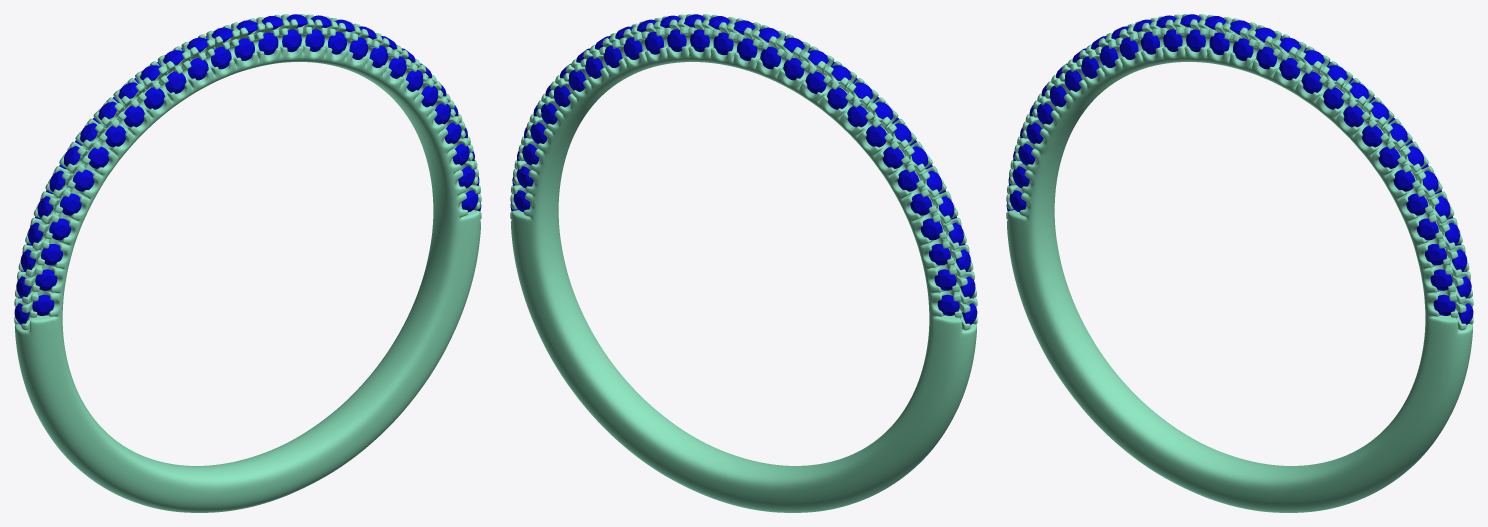
3 renders of one model, left to right at view 1: azimuth 30°, elevation 25°; view 2: azimuth 150°, elevation 25°; view 3: azimuth 330°, elevation 25°, orthographic.
Visible parts, largest first — view 1: Metal03; view 2: Metal03; view 3: Metal03.
Boxes of the visible parts, x1,y1,x2,y2 form: Metal03: (14,14,481,512); Metal03: (510,14,977,512); Metal03: (1006,14,1473,512).
Bounding box in the file's own units: 20.95 × 20.95 × 1.81.
